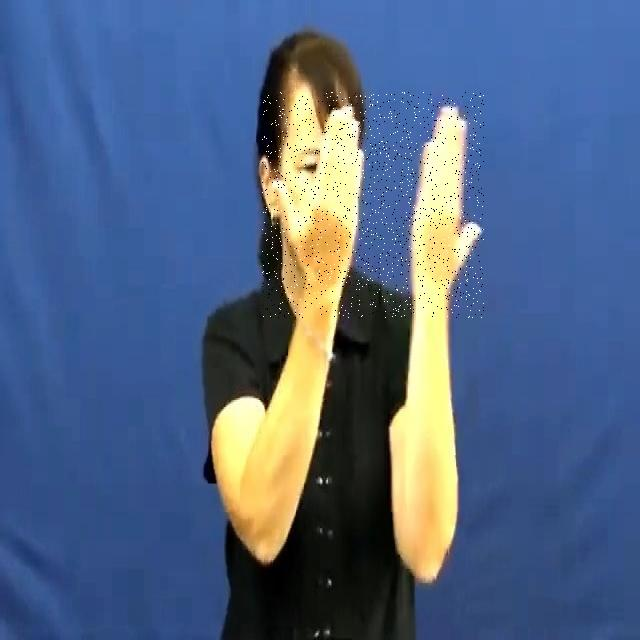menu: (262, 92, 484, 318)
